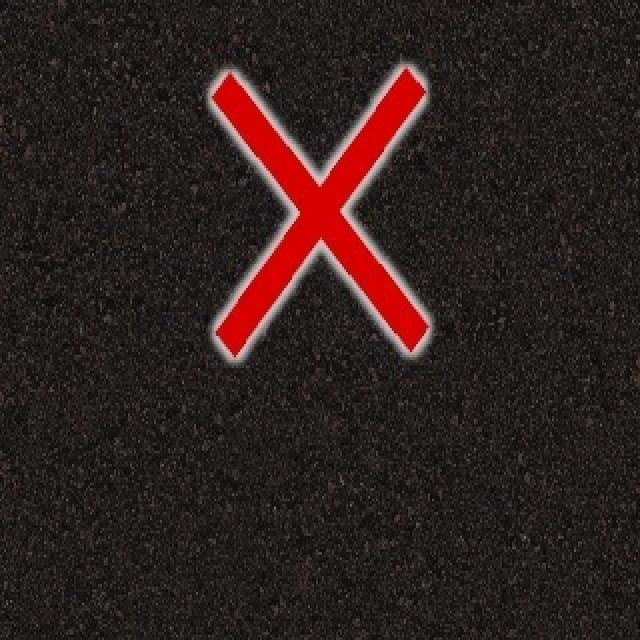x_marker: (211, 68, 427, 356)
